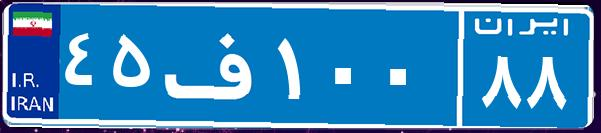0: (385, 28, 445, 110), (330, 28, 385, 110)
1: (273, 28, 330, 110)
4: (57, 26, 110, 107)
5: (110, 28, 158, 105)
8: (475, 38, 525, 113), (525, 38, 570, 115)
ف: (158, 15, 273, 115)
